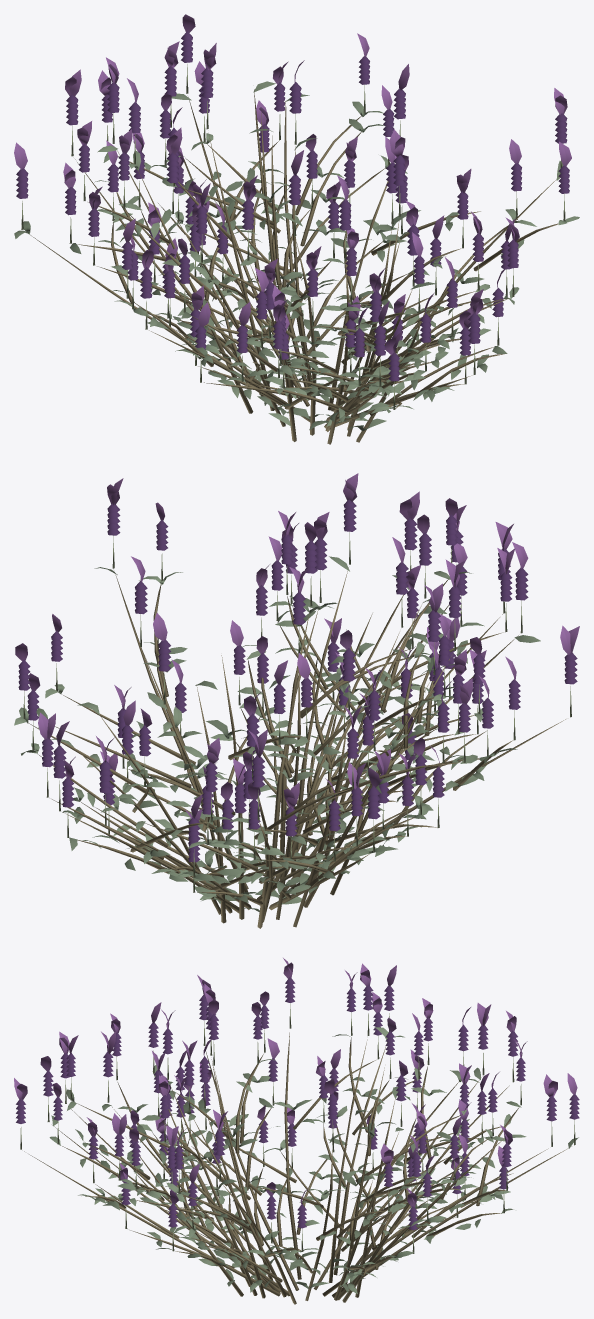
Rendered from Lavande_Etale_LOD1.fbx.
3 views of the same model, one above another, from view 1: azimuth 30°, elevation 25°; view 2: azimuth 150°, elevation 25°; view 3: azimuth 270°, elevation 25° (orthographic). The views are drawn at different scales.
Visible parts, largest first — view 1: Lavande_Etale_LOD1; view 2: Lavande_Etale_LOD1; view 3: Lavande_Etale_LOD1.
Boxes of the visible parts, box(x1,y1,x2,y2) form: Lavande_Etale_LOD1: box(14, 14, 579, 444); Lavande_Etale_LOD1: box(14, 473, 579, 928); Lavande_Etale_LOD1: box(14, 958, 579, 1304).
Size of the model in its own units: 73.44 by 56.84 by 96.88.
